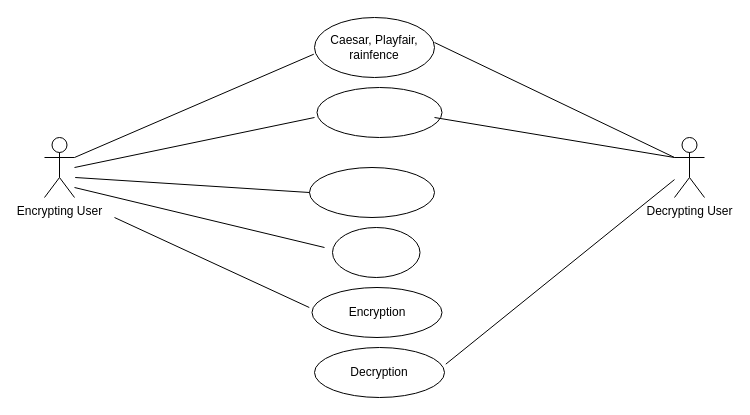
This 750x415 diagram has some shape labels left out. The shapes that lost their labels are listed below. From the top down, each one's centre as x and y in pixels, then its label:
At (379,112): "select techniques".
At (371,192): "Enter Text to decrypt".
At (376,252): "Enter key".
